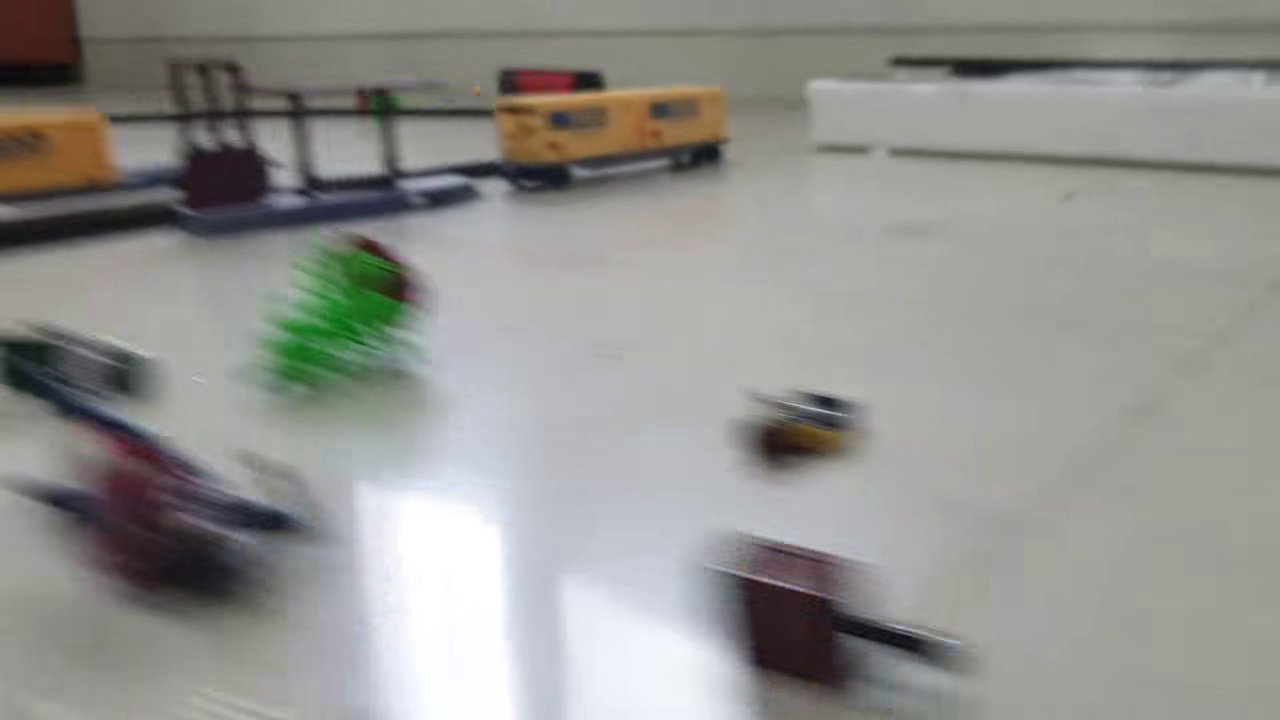box: (713, 529, 979, 700)
people: (1, 373, 320, 601), (1, 316, 150, 410), (738, 379, 869, 474)
tree: (244, 225, 429, 397)
